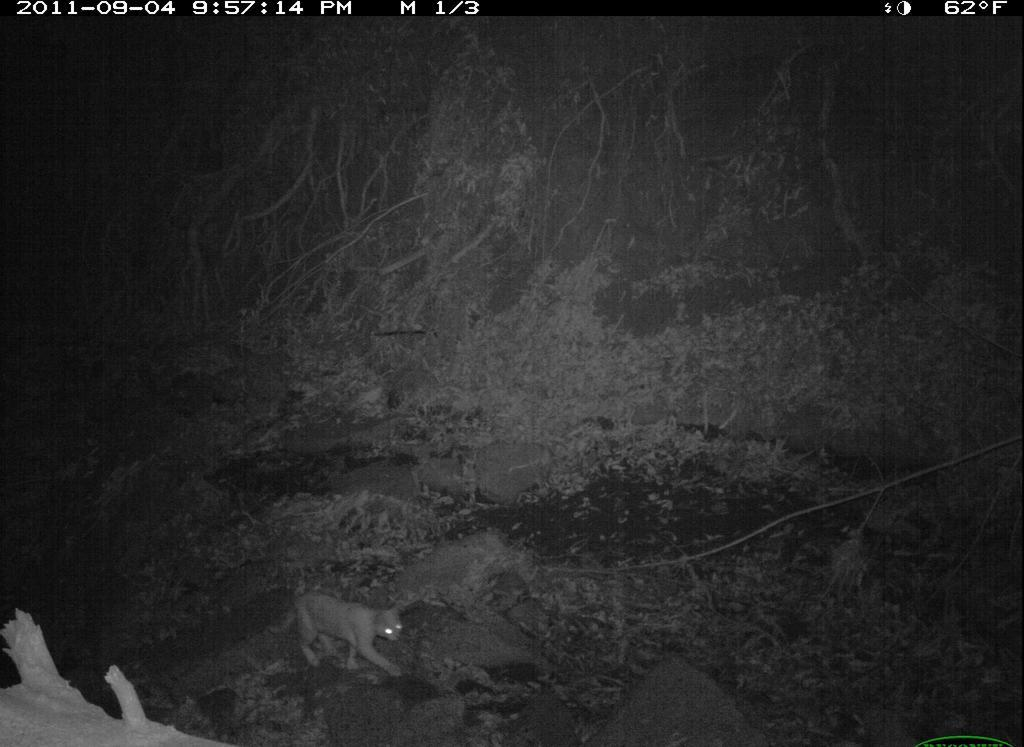cat: (272, 543, 429, 708)
